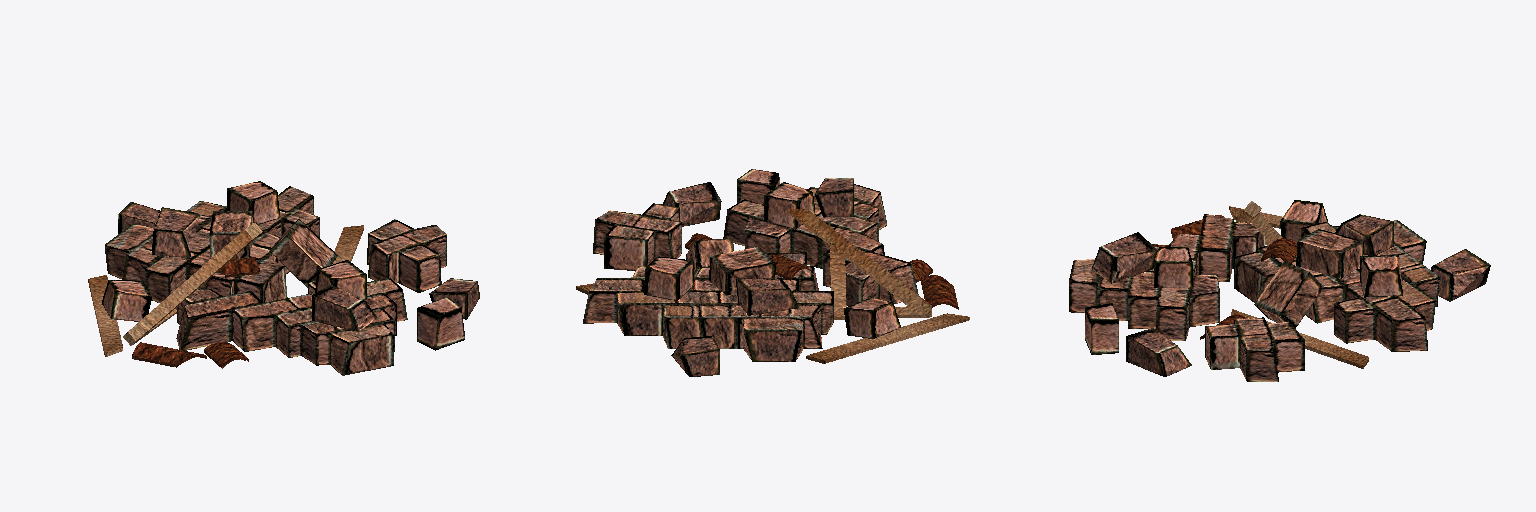
The picture shows the model from 3 angles: view 1: azimuth 30°, elevation 25°; view 2: azimuth 150°, elevation 25°; view 3: azimuth 270°, elevation 25°; orthographic projection.
Parts seen in each view (by area): view 1: Rubble_01; view 2: Rubble_01; view 3: Rubble_01.
Boxes of the visible parts, box(x1,y1,x2,y2) form: Rubble_01: box(88, 181, 479, 375); Rubble_01: box(576, 169, 969, 376); Rubble_01: box(1069, 200, 1490, 381).
Bounding box in the file's own units: 220 × 51.38 × 228.
1 materials, 1 textured.